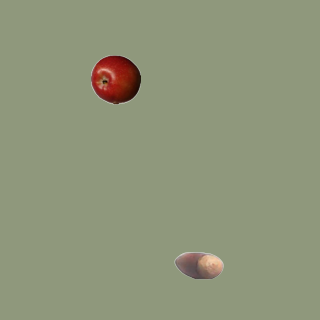Apple Braeburn: (90, 54, 140, 104)
Hazelnut: (173, 240, 223, 290)
